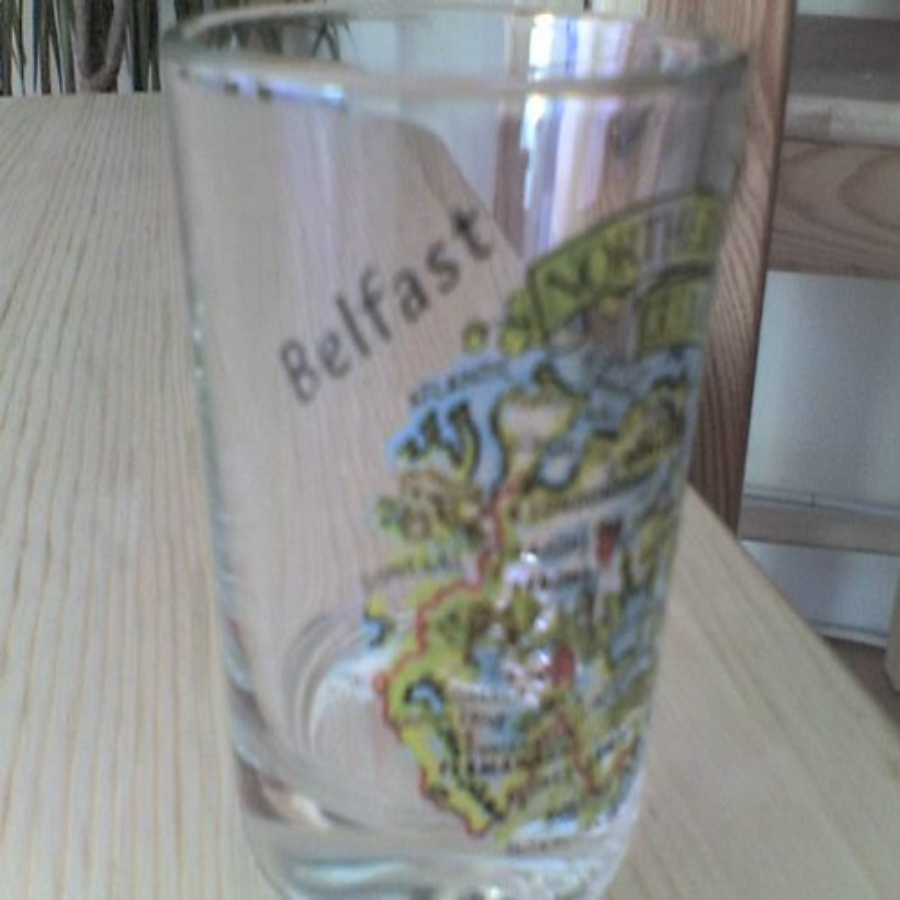whiskey: (174, 22, 739, 887)
